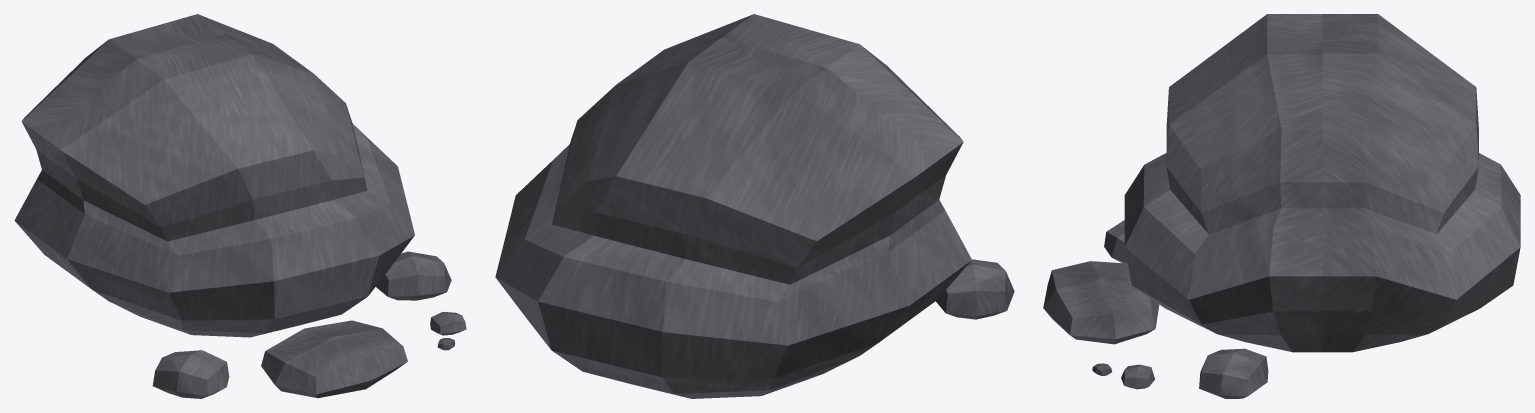
Rendered from Rock_A.fbx.
3 renders of one model, left to right at view 1: azimuth 30°, elevation 25°; view 2: azimuth 150°, elevation 25°; view 3: azimuth 270°, elevation 25°, orthographic. The views are drawn at different scales.
Visible parts, largest first — view 1: RockJagged_B; view 2: RockJagged_B; view 3: RockJagged_B.
Part boxes in pixels (left/top/right/bottom): RockJagged_B: left=14, top=14, right=466, bottom=398; RockJagged_B: left=495, top=14, right=1014, bottom=398; RockJagged_B: left=1043, top=14, right=1520, bottom=398.
Bounding box in the file's own units: 312 × 217 × 354.
